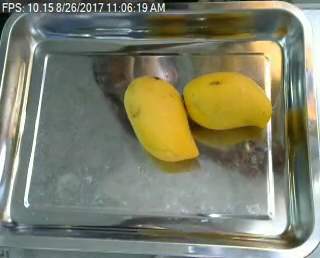Mango: (120, 73, 203, 167), (179, 63, 277, 133)
